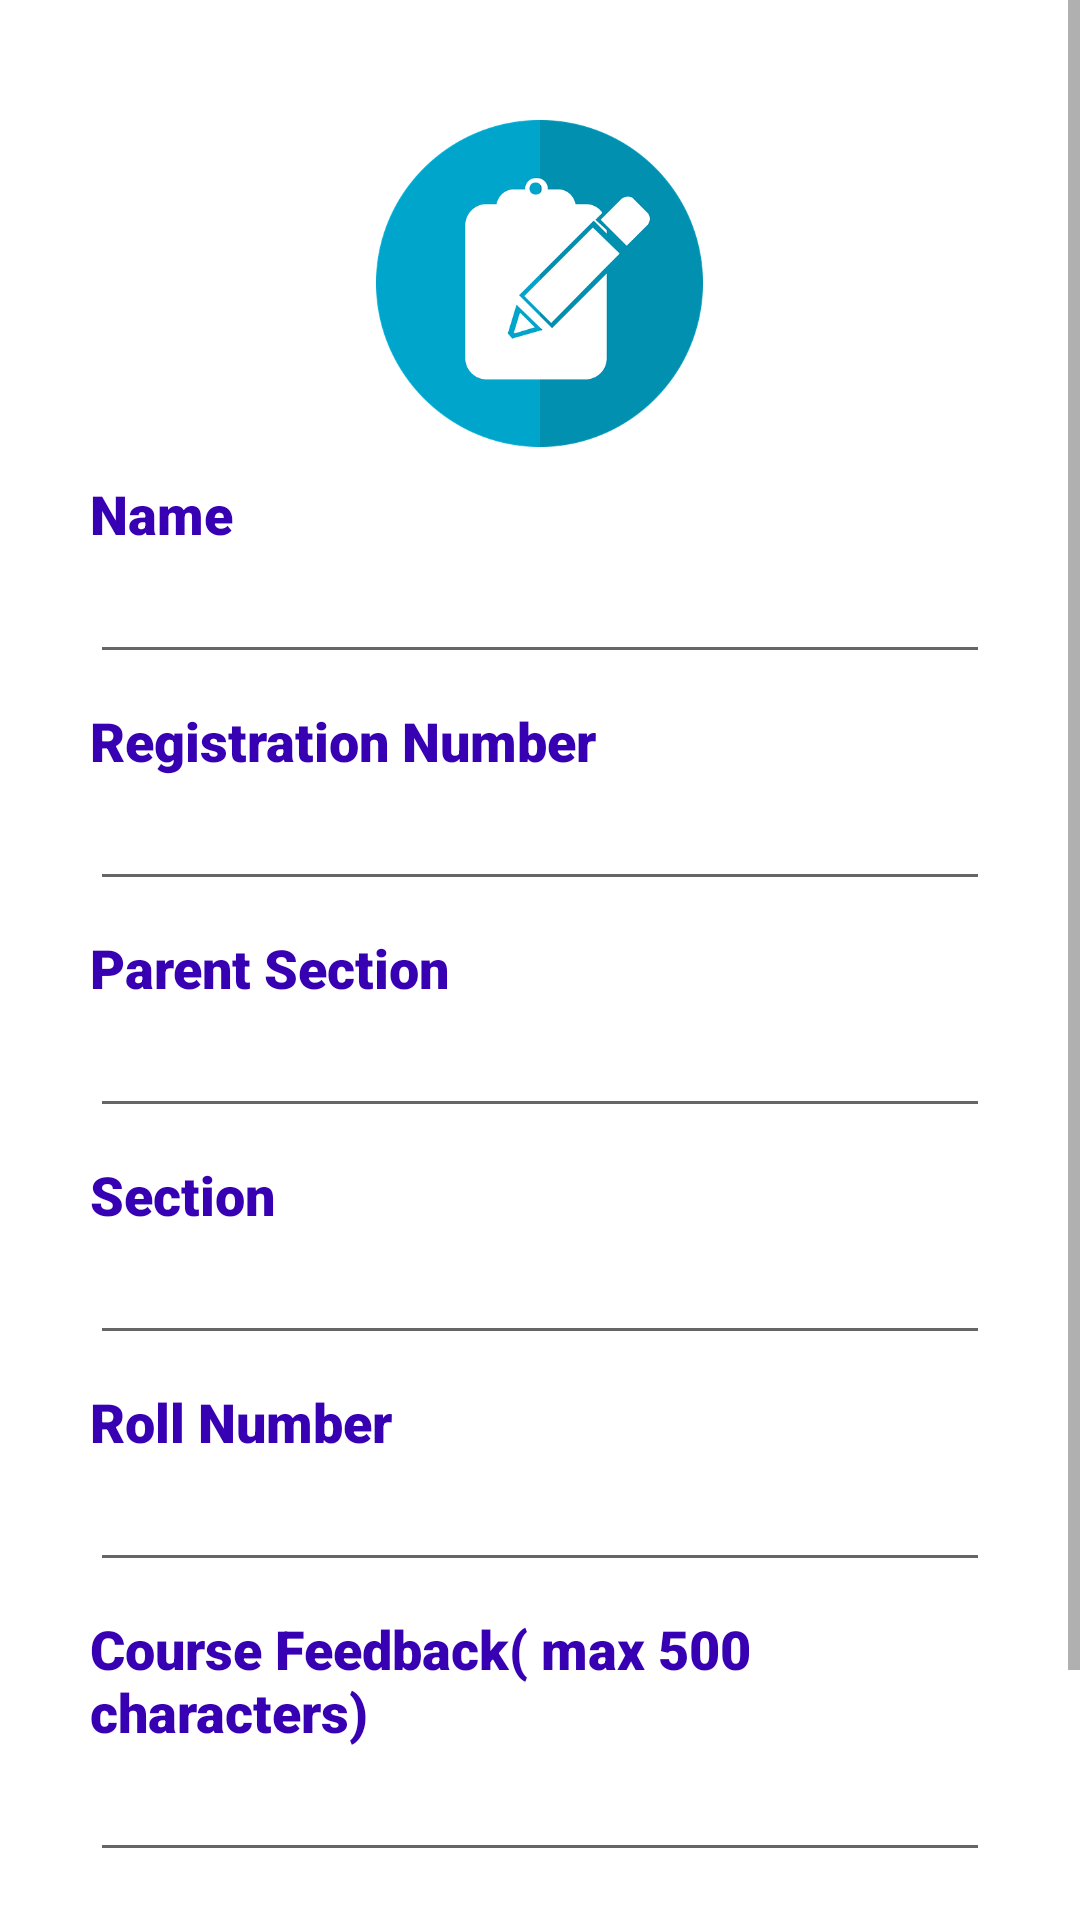

Named icons in this screenshot (1080×1920) and their bounding boxes, (x1, y1, x2, y2):
survey: (376, 120, 703, 447)
